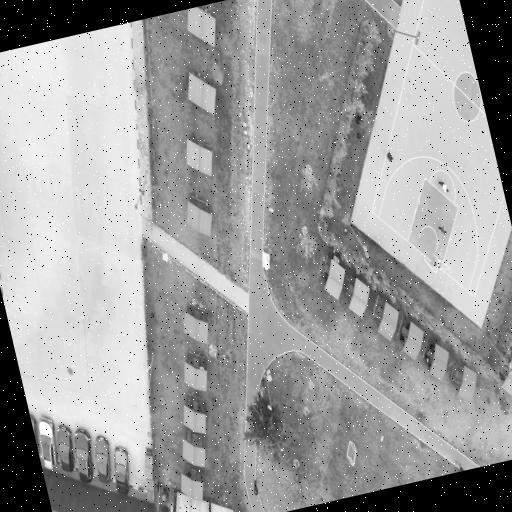car: (75, 429, 93, 482), (39, 417, 57, 469), (57, 425, 74, 471), (95, 436, 111, 483), (114, 446, 129, 494), (30, 416, 39, 453)
person: (428, 342, 436, 354), (438, 224, 447, 234), (439, 181, 448, 191), (356, 114, 363, 123), (456, 461, 463, 470), (425, 355, 431, 365), (433, 260, 439, 270), (254, 480, 258, 494), (386, 151, 392, 160), (357, 132, 361, 138)
